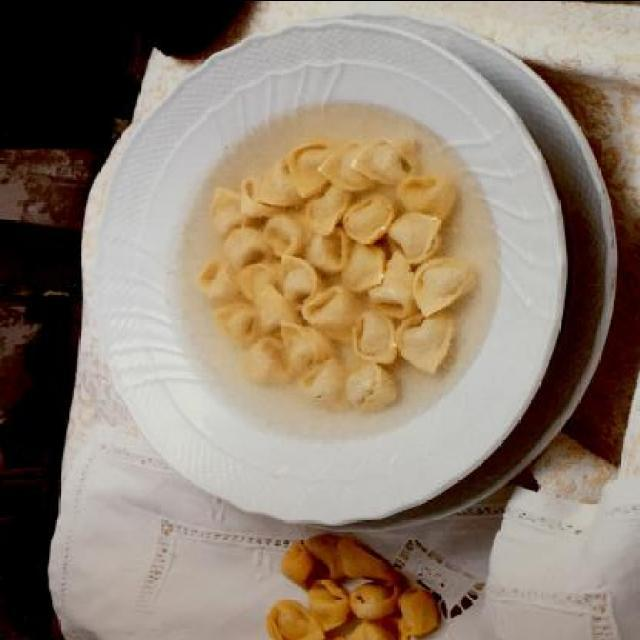Tortellini in broth: (176, 120, 464, 414)
